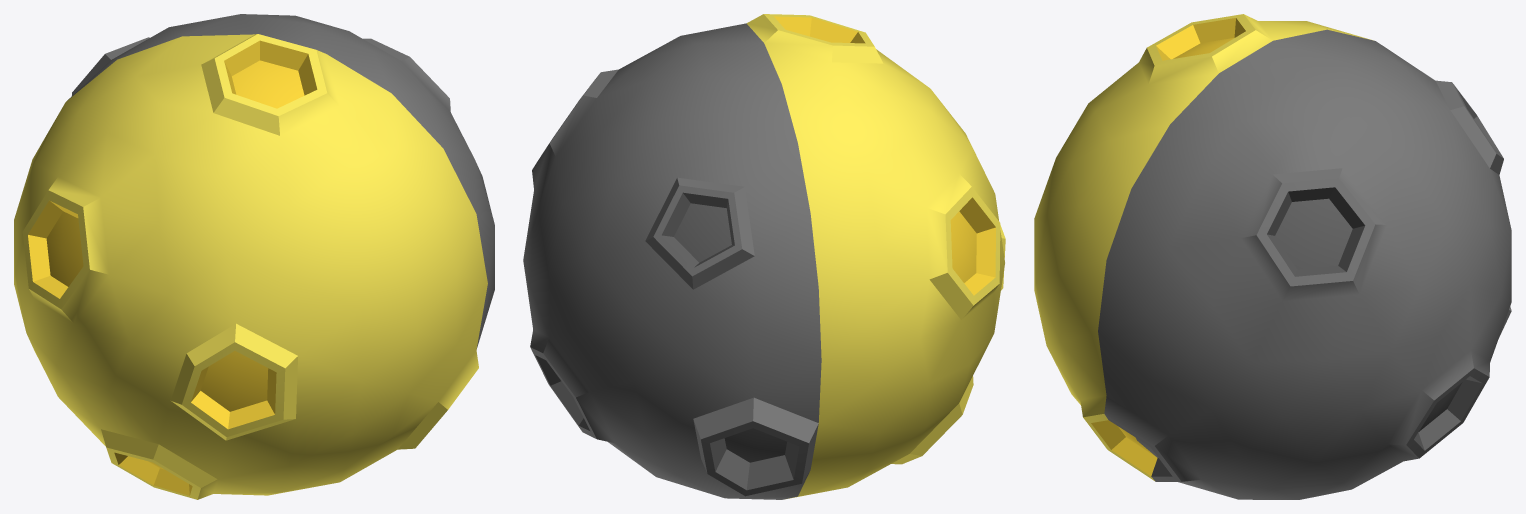
Rendered from waning_gibbous_moon.gltf.
The picture shows the model from 3 angles, left to right: view 1: azimuth 30°, elevation 25°; view 2: azimuth 150°, elevation 25°; view 3: azimuth 270°, elevation 25°; orthographic projection.
Visible parts, largest first — view 1: Icosphere.005; view 2: Icosphere.005; view 3: Icosphere.005.
Boxes of the visible parts, x1,y1,x2,y2 form: Icosphere.005: (14,14,494,499); Icosphere.005: (523,14,1005,499); Icosphere.005: (1034,14,1511,499).
Bounding box in the file's own units: 2.03 × 2.04 × 1.97.
Materials: 1 (1 with a texture image).
